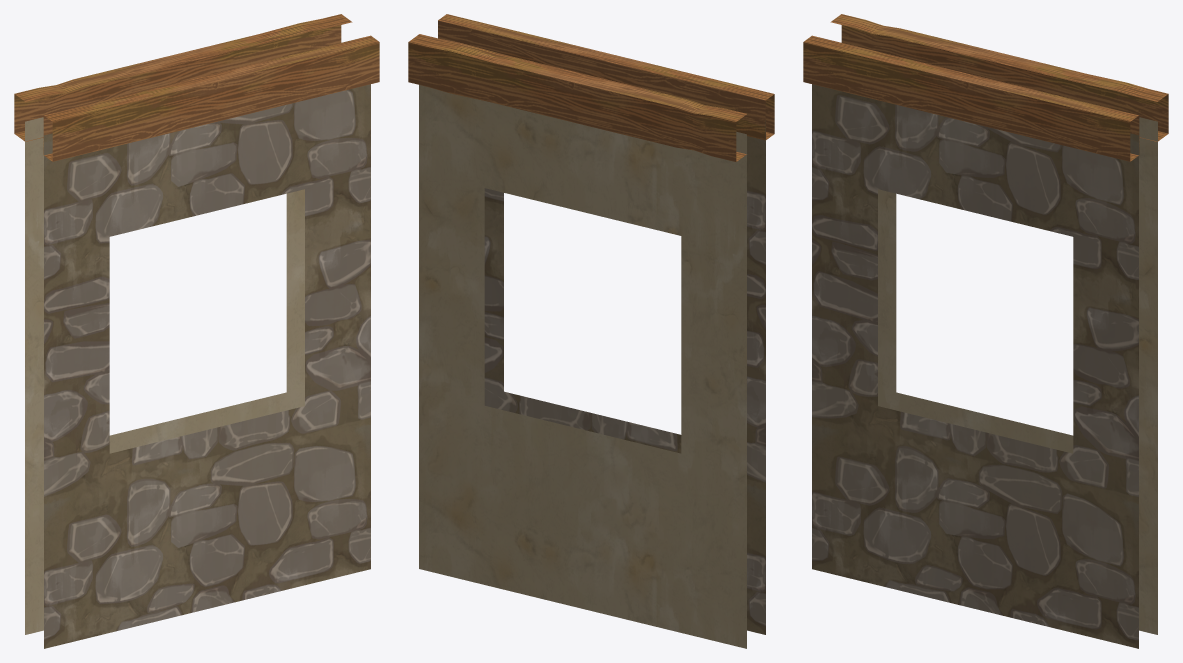
The model's file is Wall_UnevenBrick_Window_Wide_Flat.gltf.
3 renders of one model, left to right at view 1: azimuth 30°, elevation 25°; view 2: azimuth 150°, elevation 25°; view 3: azimuth 330°, elevation 25°, orthographic.
Visible parts, largest first — view 1: Wall_UnevenBrick_Window_Wide_Flat; view 2: Wall_UnevenBrick_Window_Wide_Flat; view 3: Wall_UnevenBrick_Window_Wide_Flat.
Boxes of the visible parts, x1,y1,x2,y2 form: Wall_UnevenBrick_Window_Wide_Flat: (14,14,379,648); Wall_UnevenBrick_Window_Wide_Flat: (408,14,774,648); Wall_UnevenBrick_Window_Wide_Flat: (803,14,1168,648).
Bounding box in the file's own units: 2 × 3.12 × 0.4065.
3 materials, 3 textured.
